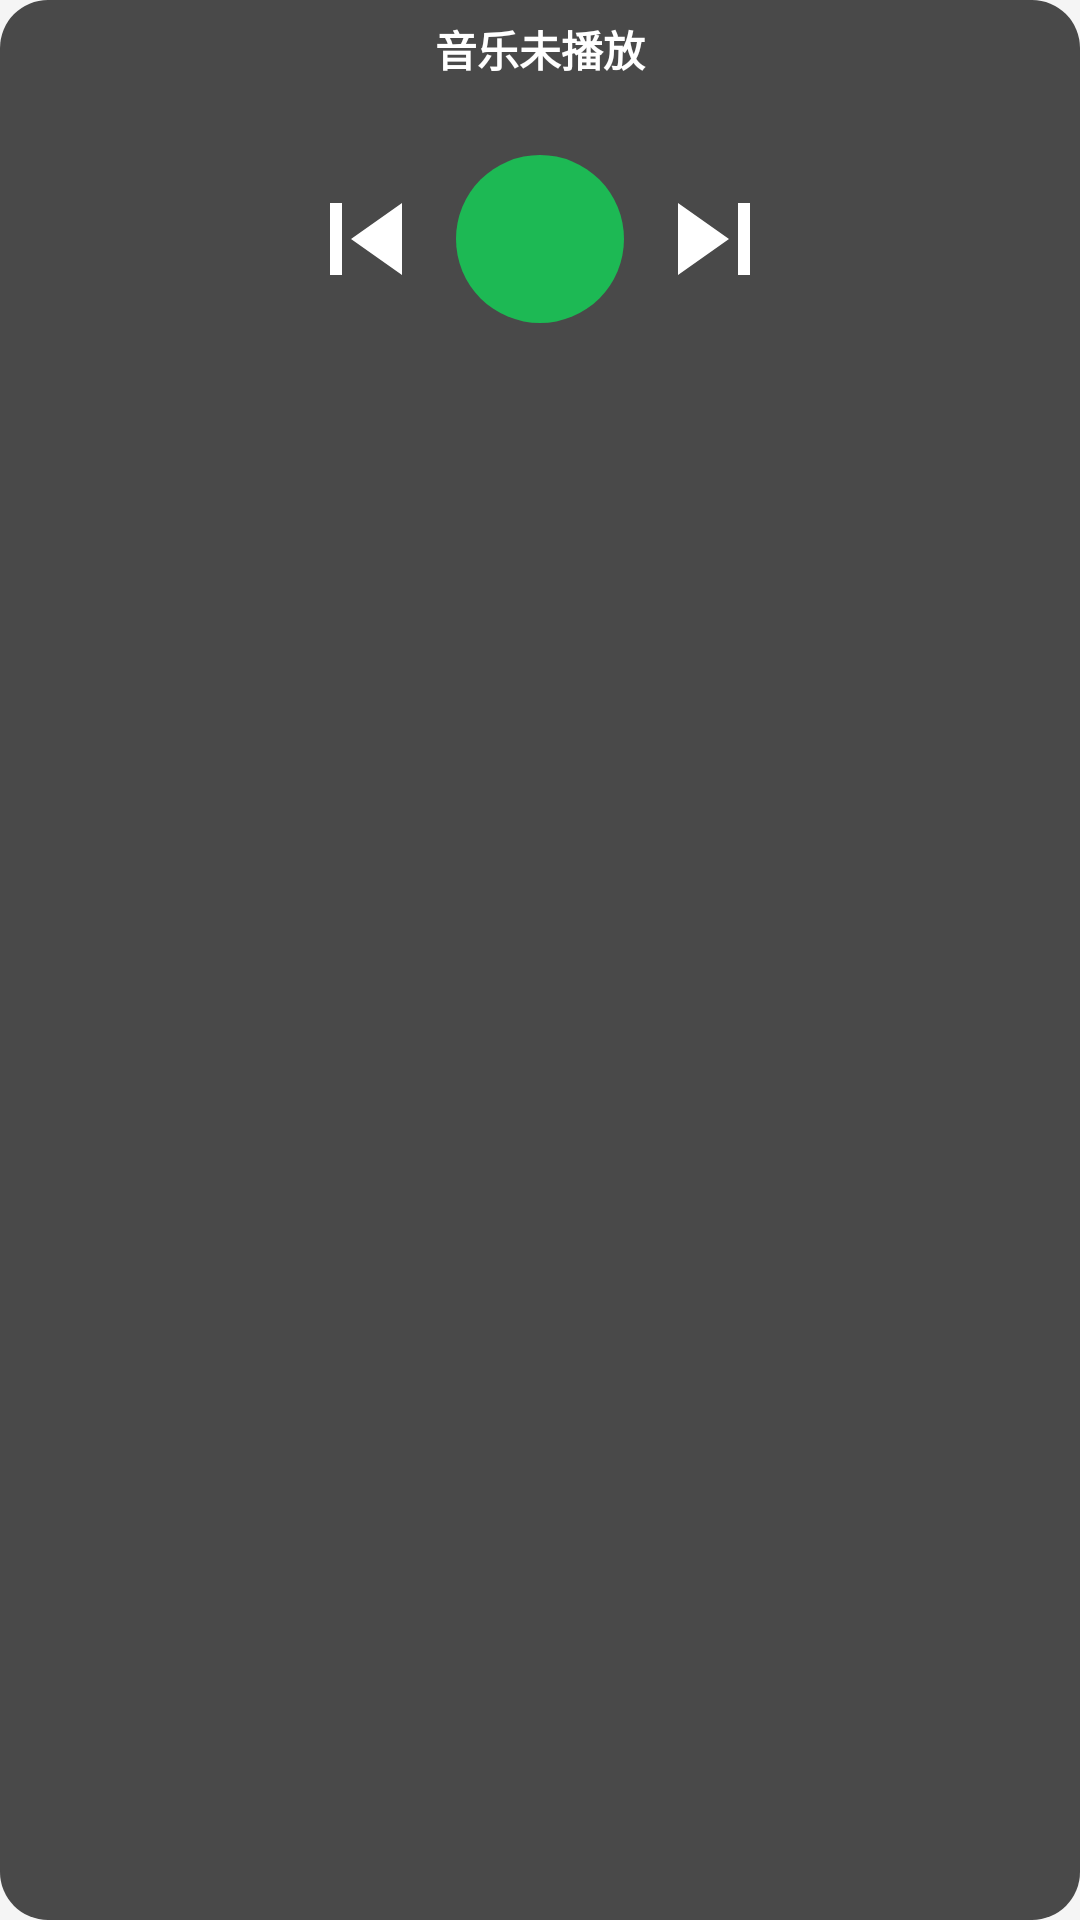

Icons on this 1080×1920 Android screen, each with the point to tap as (x=x, y=y):
next: (x=714, y=239)
prev: (x=366, y=239)
